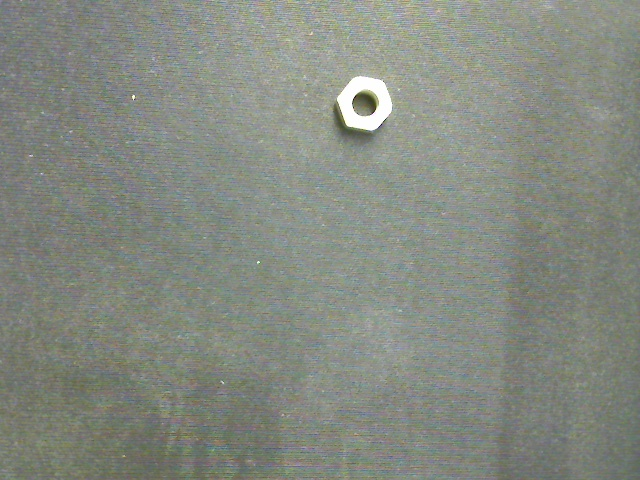Nut: (334, 75, 392, 132)
